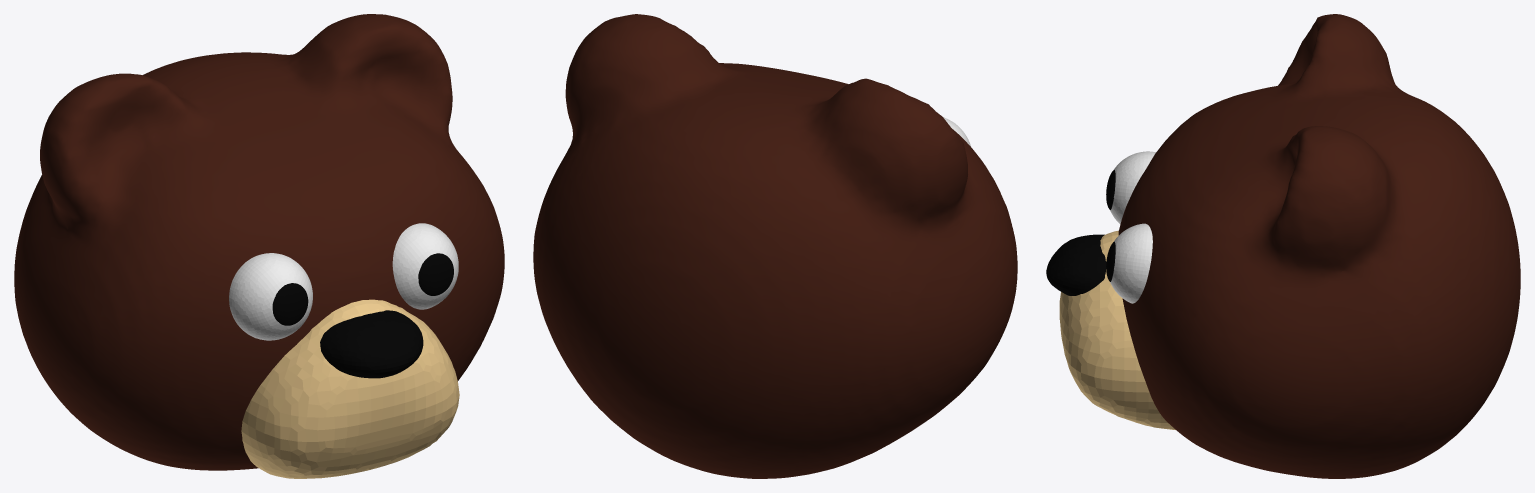
The model's file is bear.fbx.
3 renders of one model, left to right at view 1: azimuth 30°, elevation 25°; view 2: azimuth 150°, elevation 25°; view 3: azimuth 270°, elevation 25°, orthographic. The views are drawn at different scales.
Parts seen in each view (by area): view 1: Cube, Cube.005, Sphere.002, Cube.006, Sphere.001; view 2: Cube; view 3: Cube, Cube.005, Cube.006, Sphere.001, Sphere.002.
Boxes of the visible parts, left/top/right/bottom form: Cube: left=14, top=14, right=504, bottom=470; Cube.005: left=241, top=299, right=459, bottom=478; Sphere.002: left=229, top=253, right=312, bottom=340; Cube.006: left=320, top=310, right=423, bottom=378; Sphere.001: left=392, top=223, right=458, bottom=309; Cube: left=533, top=14, right=1017, bottom=478; Cube: left=1118, top=14, right=1520, bottom=478; Cube.005: left=1059, top=230, right=1175, bottom=429; Cube.006: left=1046, top=234, right=1106, bottom=295; Sphere.001: left=1106, top=223, right=1152, bottom=303; Sphere.002: left=1106, top=151, right=1155, bottom=224.
Bounding box in the file's own units: 188 × 168 × 193.
